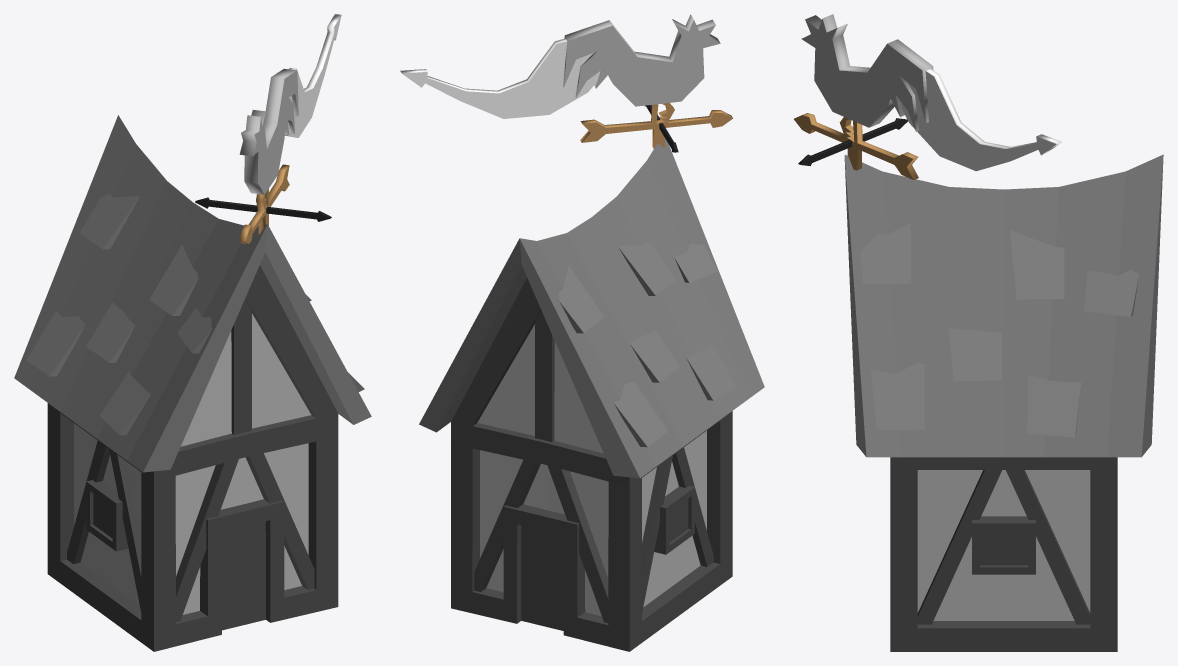
File: defaultHouse.glb
The picture shows the model from 3 angles, left to right: view 1: azimuth 30°, elevation 25°; view 2: azimuth 150°, elevation 25°; view 3: azimuth 270°, elevation 25°; orthographic projection. The views are drawn at different scales.
Visible parts, largest first — view 1: defaultHouse; view 2: defaultHouse; view 3: defaultHouse.
Part boxes in pixels (x1,y1,x2,y2): defaultHouse: (14,14,371,651); defaultHouse: (400,14,764,651); defaultHouse: (794,14,1163,651).
Bounding box in the file's own units: 1.21 × 2.18 × 1.26.
1 material, 1 textured.
